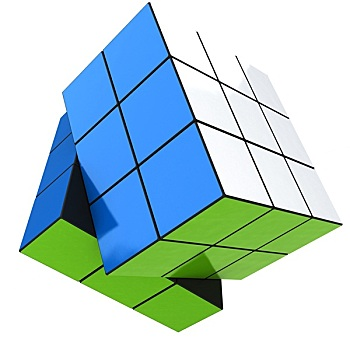cube: (17, 2, 342, 335)
